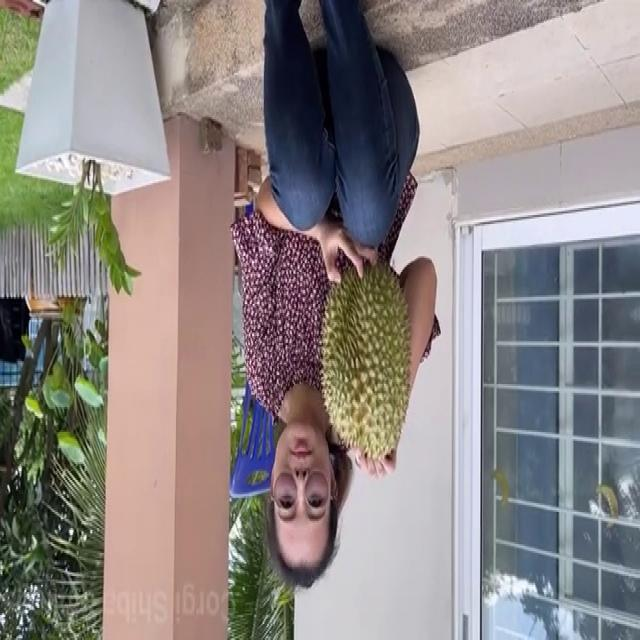durian: (317, 249, 414, 465)
